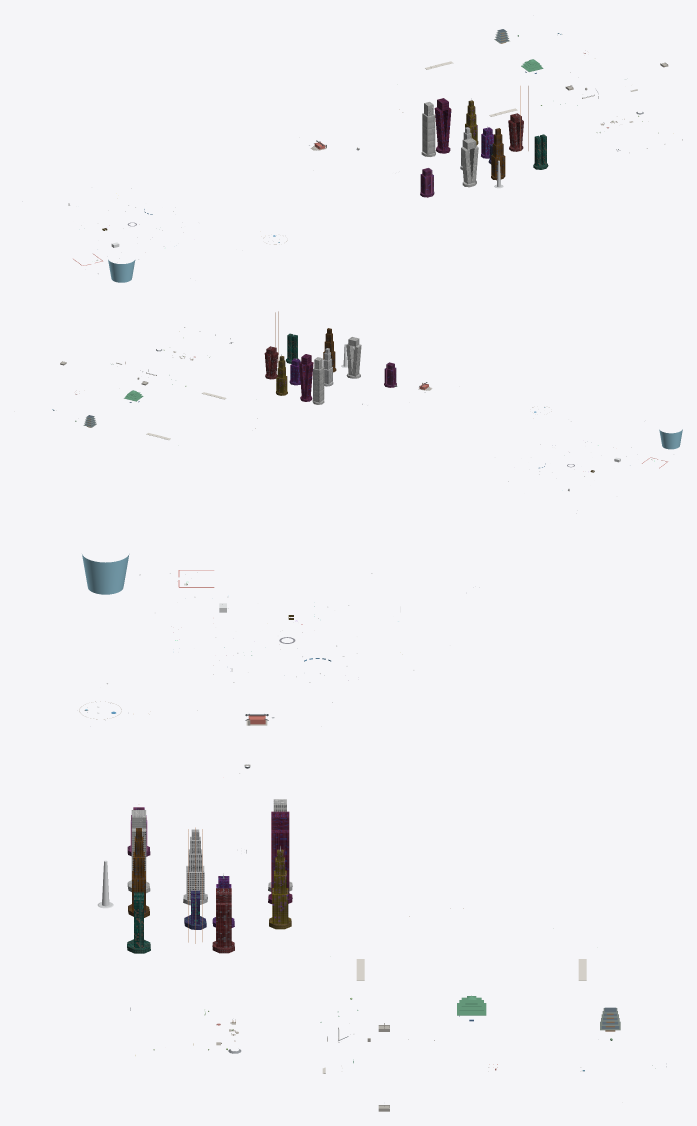
Rendered from pack_30.glb.
The picture shows the model from 3 angles, top to bottom: view 1: azimuth 30°, elevation 25°; view 2: azimuth 150°, elevation 25°; view 3: azimuth 270°, elevation 25°; orthographic projection. The views are drawn at different scales.
Parts seen in each view (by area): view 1: pack_30; view 2: pack_30; view 3: pack_30.
Boxes of the visible parts, x1,y1,x2,y2 form: pack_30: (68,29,682,282); pack_30: (52,311,682,491); pack_30: (79,554,666,1111).
Size of the model in its own units: 2542 by 260 by 1262.
147 materials, 11 textured.
